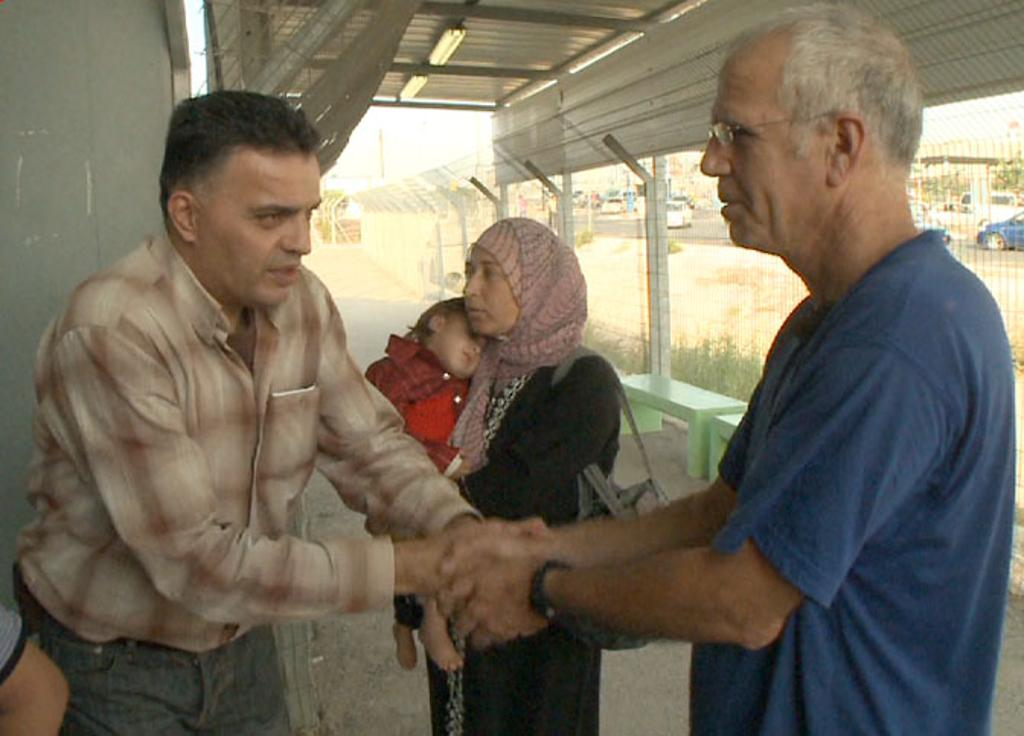face: (700, 40, 826, 250), (210, 146, 322, 300), (464, 240, 516, 334), (440, 304, 496, 370)
